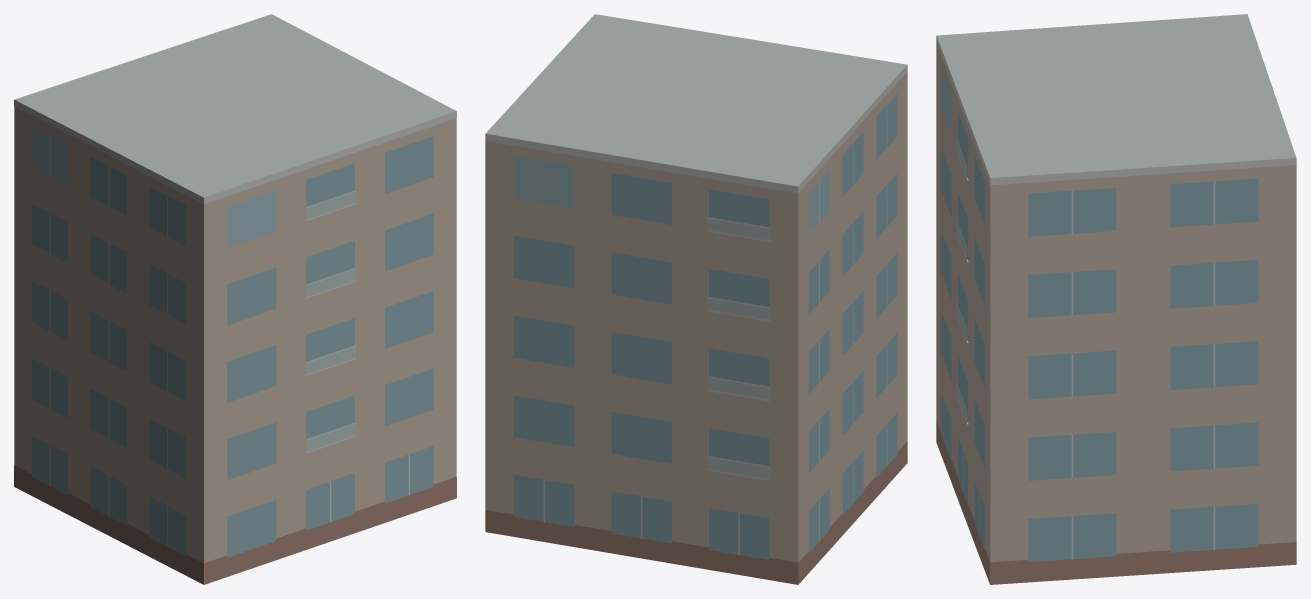
The model's file is survey-upis-33001405.glb.
The picture shows the model from 3 angles, left to right: view 1: azimuth 30°, elevation 25°; view 2: azimuth 150°, elevation 25°; view 3: azimuth 270°, elevation 25°; orthographic projection. The views are drawn at different scales.
Visible parts, largest first — view 1: survey-upis-33001405.tmp; view 2: survey-upis-33001405.tmp; view 3: survey-upis-33001405.tmp.
Part boxes in pixels (<box>): survey-upis-33001405.tmp: <box>14,14,456,584</box>; survey-upis-33001405.tmp: <box>485,14,907,584</box>; survey-upis-33001405.tmp: <box>936,14,1296,584</box>.
Size of the model in its own units: 12.09 by 13.95 by 11.2.
